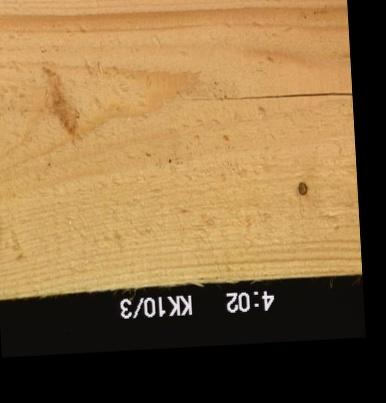dry_knot: (295, 179, 308, 198)
split: (171, 91, 350, 103)
